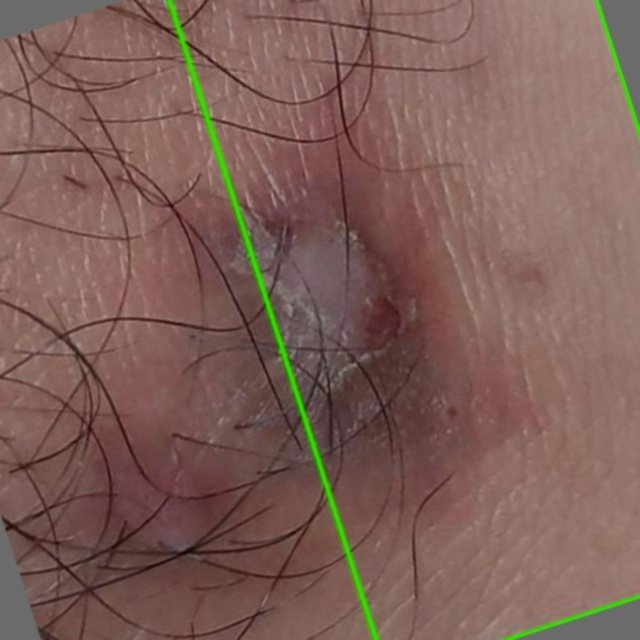Eczema: (169, 0, 639, 639)
